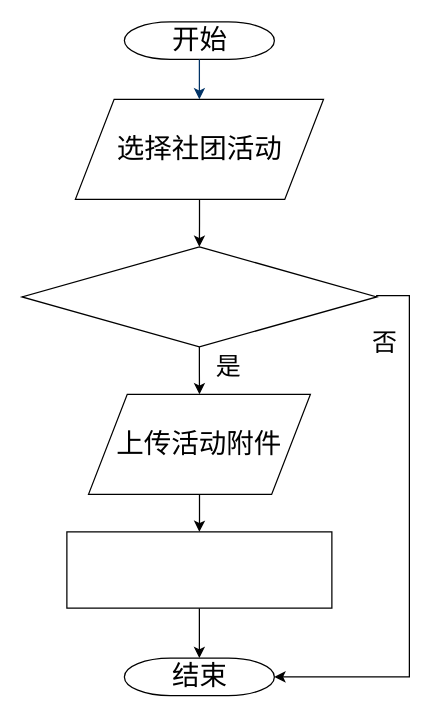
Some shapes in this 441 by 718 pixel diagram are drawn without their labels. Each missing label, with the centre of its shape:
判断活动是否已结束？: (199,296)
更新社团活动信息， 刷新活动列表: (199,569)
